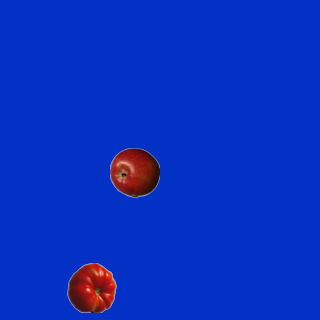Apple Braeburn: (109, 147, 159, 197)
Tomato 3: (66, 262, 116, 312)
